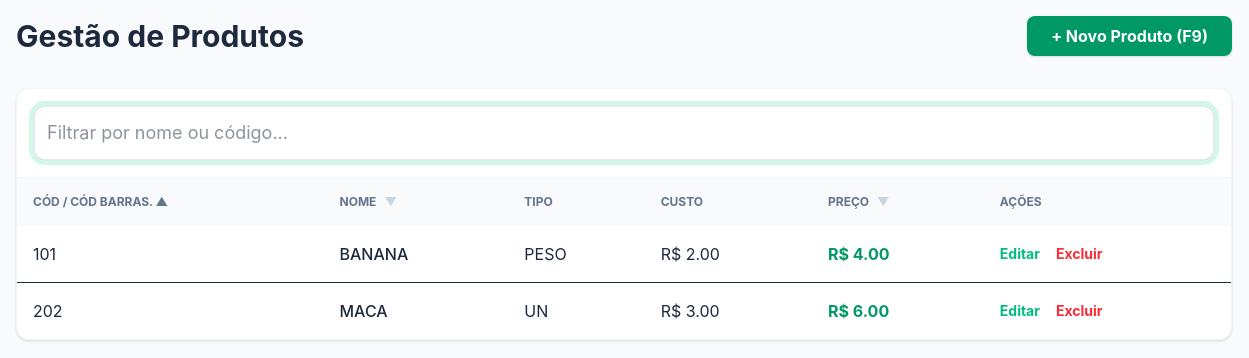
Test case: Página de Estoque › deve filtrar os produtos pela busca
Expected: the text "BANANA" is shown, [324,226,508,282]
Type "MACA" into the field with placeholder "Filtrar por nome ou código..." at (624, 133), box [33,105,1215,161]
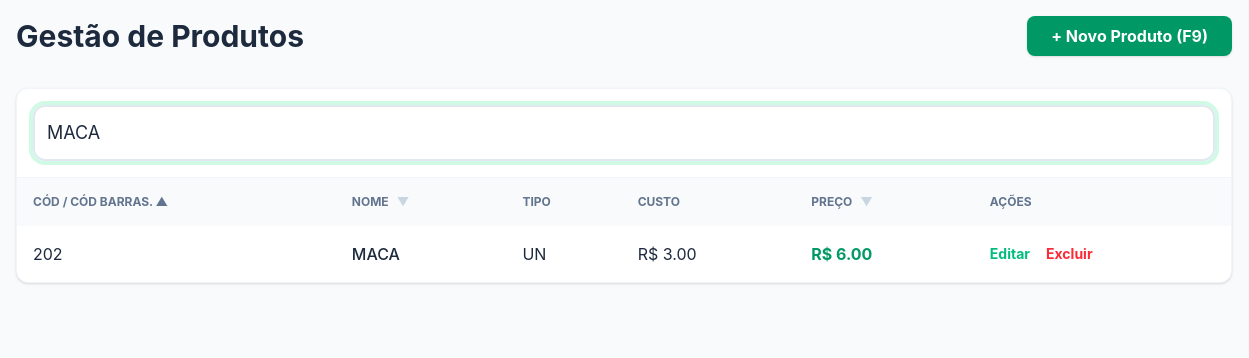
Result: the text "MACA" is shown at [336,226,506,282]
Result: the text "BANANA" is gone
